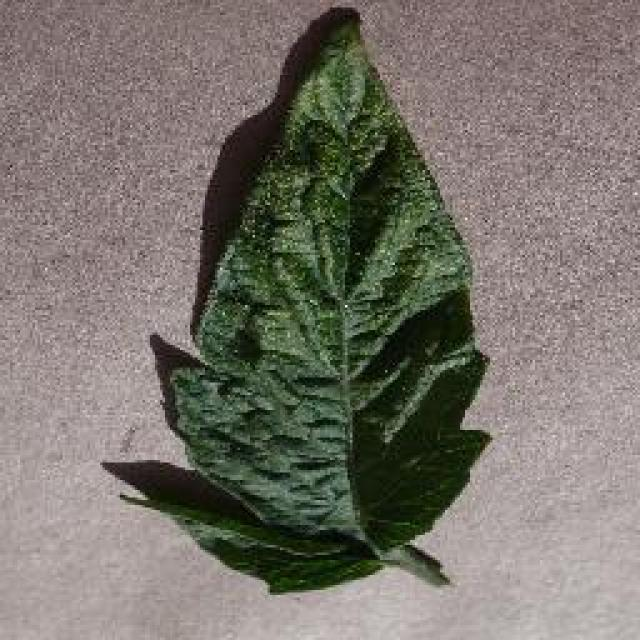Tomato mosaic virus leaf: (115, 14, 495, 598)
